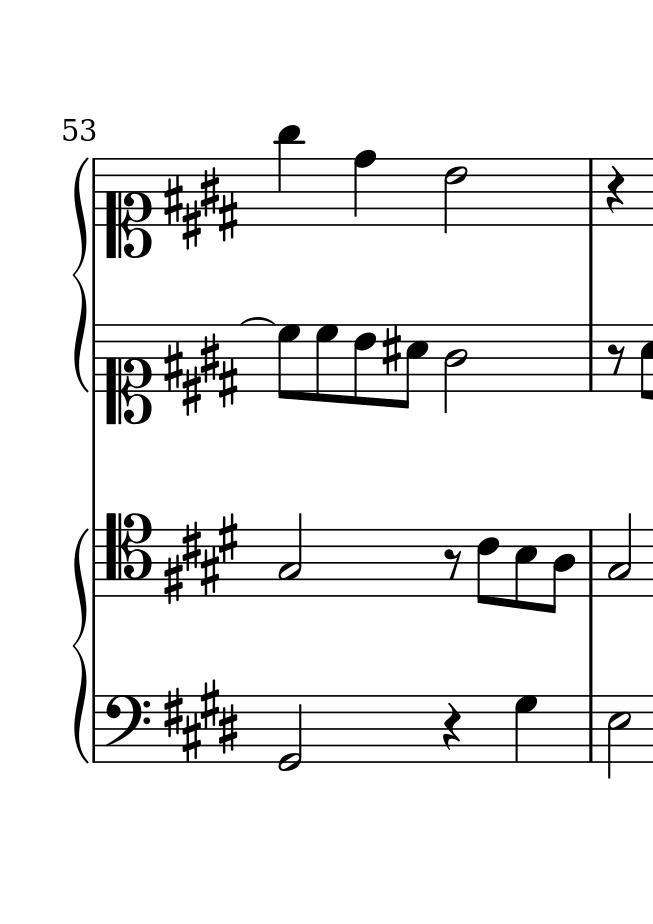2_0: (277, 692, 304, 772)
2_2: (607, 509, 634, 595), (277, 516, 304, 594)
2_4: (443, 323, 468, 411)
2_5: (606, 694, 632, 780)
2_6: (443, 158, 467, 233)
3: (78, 118, 98, 144)
4_7: (513, 695, 540, 764)
4_8: (352, 148, 376, 227)
5: (61, 117, 78, 143)
8_11: (275, 122, 301, 229)
8_4: (546, 529, 576, 615)
8_5: (397, 323, 428, 410), (512, 527, 538, 612)
8_6: (352, 322, 377, 409), (475, 528, 500, 606)
8_7: (314, 323, 338, 403), (276, 323, 300, 401)
Brace: (71, 525, 91, 764), (73, 156, 90, 394)
E_S: (161, 512, 242, 605), (161, 160, 242, 249), (160, 331, 239, 415), (160, 682, 237, 761)
Fclef: (103, 694, 150, 763)
Rests4: (441, 702, 463, 753), (605, 165, 626, 216)
Rests8: (606, 342, 627, 376), (443, 546, 463, 581)
Sharp: (381, 323, 402, 376)
Single_barline: (583, 325, 600, 390), (584, 161, 600, 226), (585, 529, 600, 597), (584, 696, 600, 759), (88, 325, 103, 392), (89, 527, 102, 600), (88, 159, 101, 226), (89, 697, 102, 762)
Slur: (239, 316, 277, 326)
Soprano_Cclef: (104, 322, 153, 428), (104, 160, 152, 259)
Tensor_Cclef: (105, 512, 151, 596)
